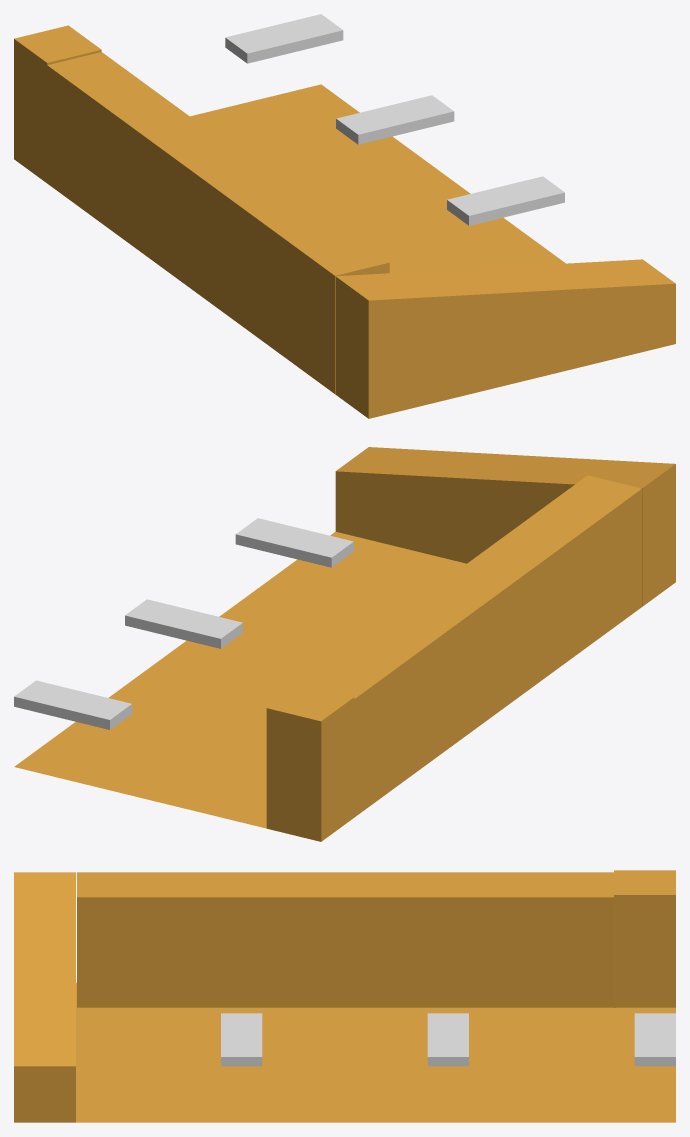
Rendered from rotating_platform.glb.
The picture shows the model from 3 angles, top to bottom: view 1: azimuth 30°, elevation 25°; view 2: azimuth 150°, elevation 25°; view 3: azimuth 270°, elevation 25°; orthographic projection. The views are drawn at different scales.
Parts seen in each view (by area): view 1: course, rotatingPlatform; view 2: course, rotatingPlatform; view 3: course, rotatingPlatform.
Boxes of the visible parts, x1,y1,x2,y2 form: course: [14, 25, 675, 418]; rotatingPlatform: [225, 14, 564, 225]; course: [14, 447, 675, 841]; rotatingPlatform: [14, 518, 353, 729]; course: [14, 870, 675, 1122]; rotatingPlatform: [221, 1013, 675, 1066].
Size of what is drawn, in the model's own units: 16 by 6 by 32.
